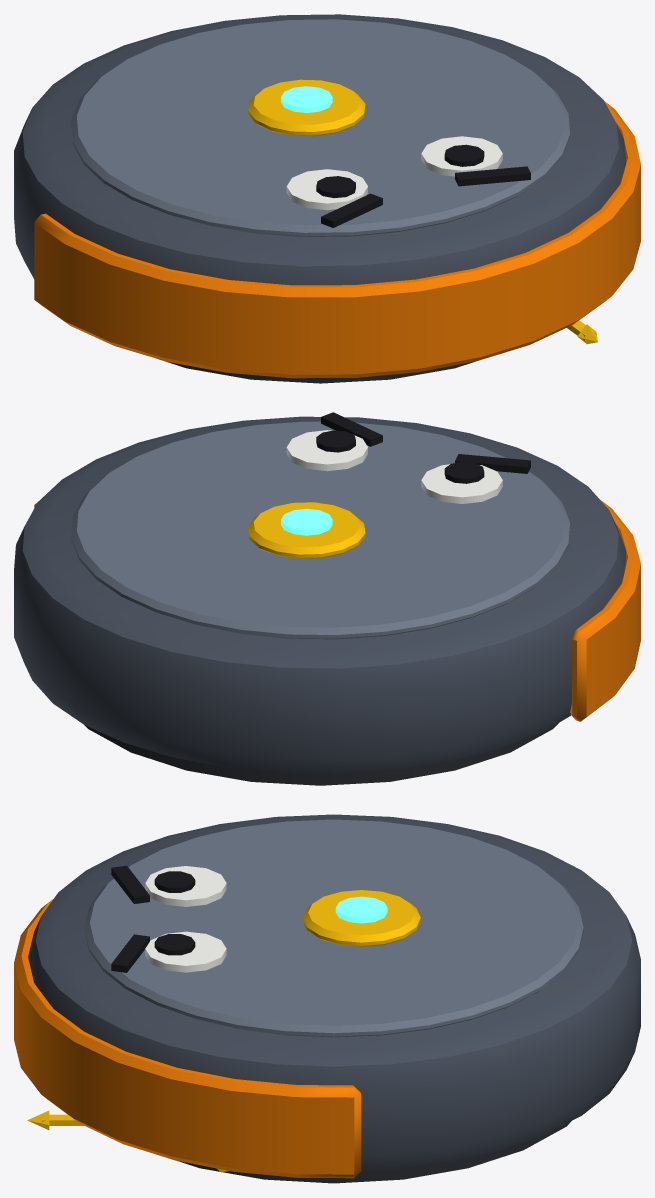
The model's file is roomba.glb.
3 renders of one model, top to bottom at view 1: azimuth 30°, elevation 25°; view 2: azimuth 150°, elevation 25°; view 3: azimuth 270°, elevation 25°, orthographic.
Parts seen in each view (by area): view 1: body; view 2: body; view 3: body, side_brush.
Boxes of the visible parts, x1,y1,x2,y2 form: body: (14, 14, 640, 383); body: (14, 412, 640, 785); body: (14, 814, 640, 1183); side_brush: (27, 1110, 228, 1172).
Bounding box in the file's own units: 34.46 × 9.7 × 33.9.
